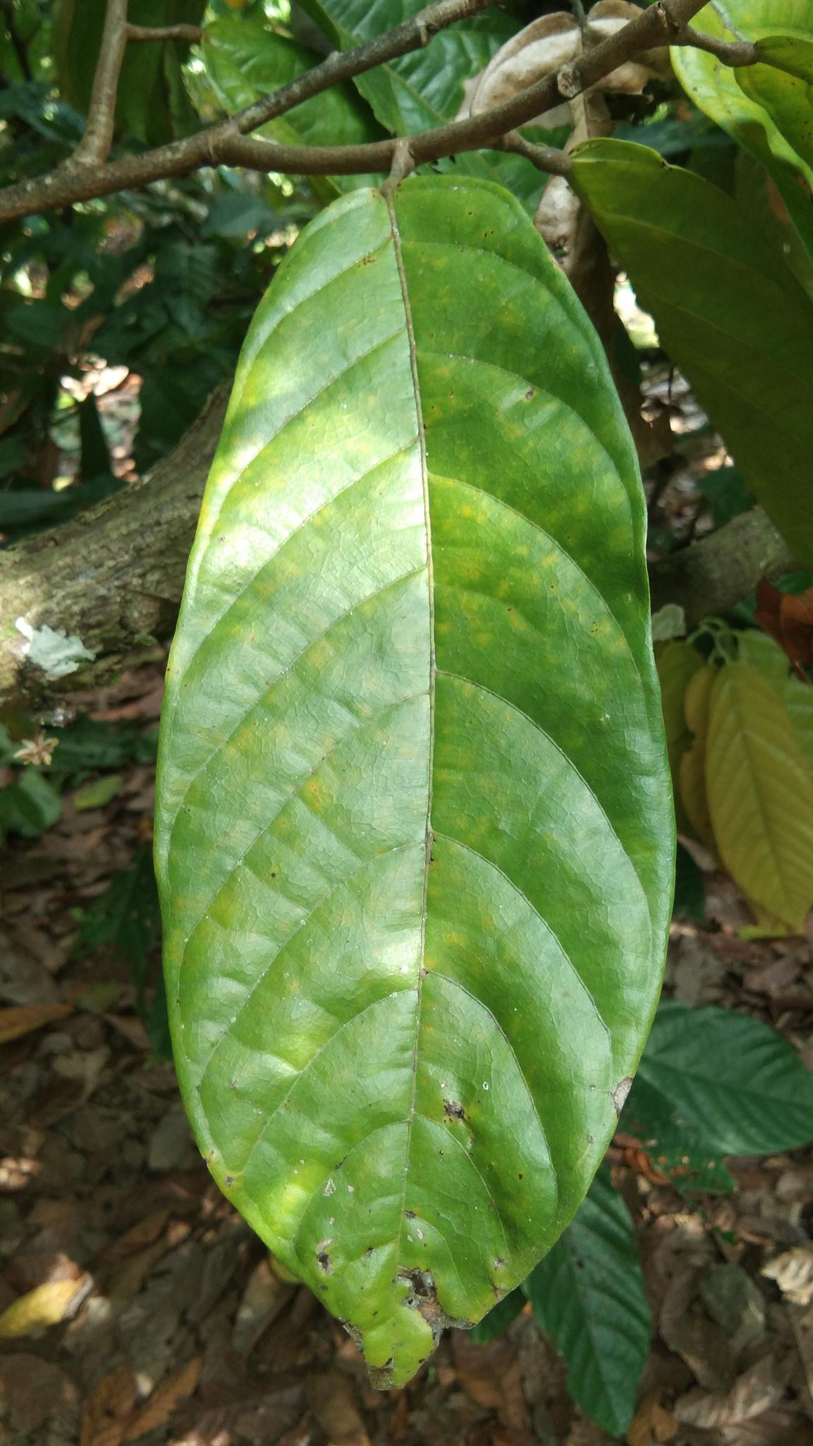Fosforo: (156, 143, 687, 1420)
